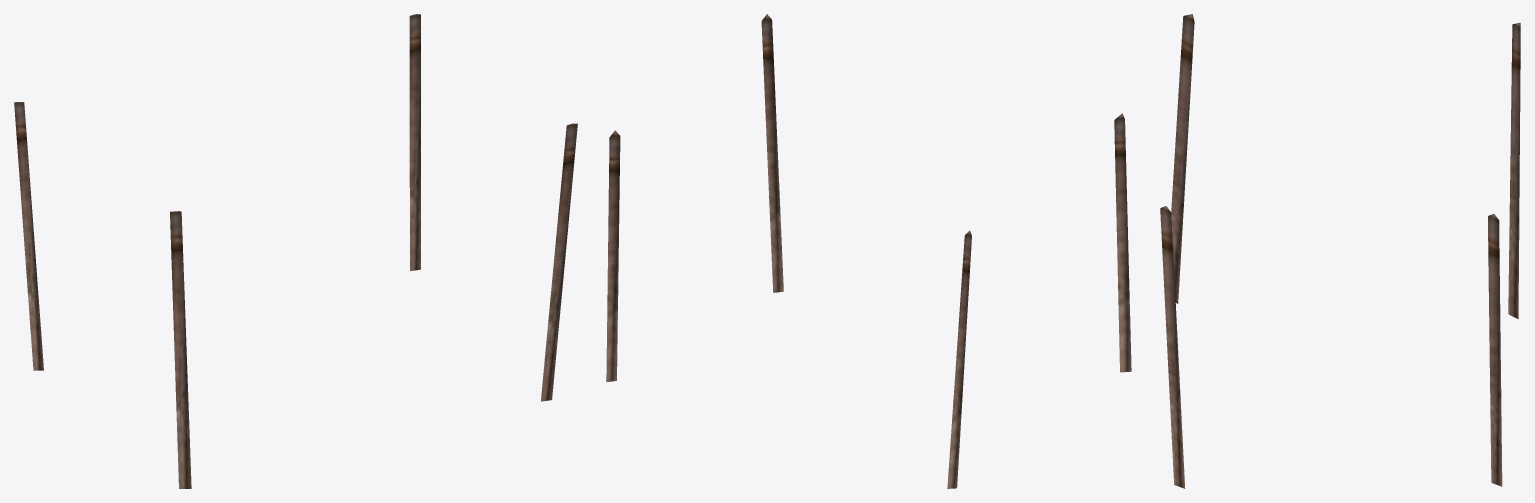
File: peng1.obj
3 views of the same model, side by side, from view 1: azimuth 30°, elevation 25°; view 2: azimuth 150°, elevation 25°; view 3: azimuth 270°, elevation 25° (orthographic). The views are drawn at different scales.
Parts seen in each view (by area): view 1: peng1; view 2: peng1; view 3: peng1.
Boxes of the visible parts, <box> form: peng1: <box>14,14,577,488</box>; peng1: <box>606,14,1131,488</box>; peng1: <box>1160,14,1520,488</box>.
Bounding box in the file's own units: 113 × 77.58 × 86.11.
